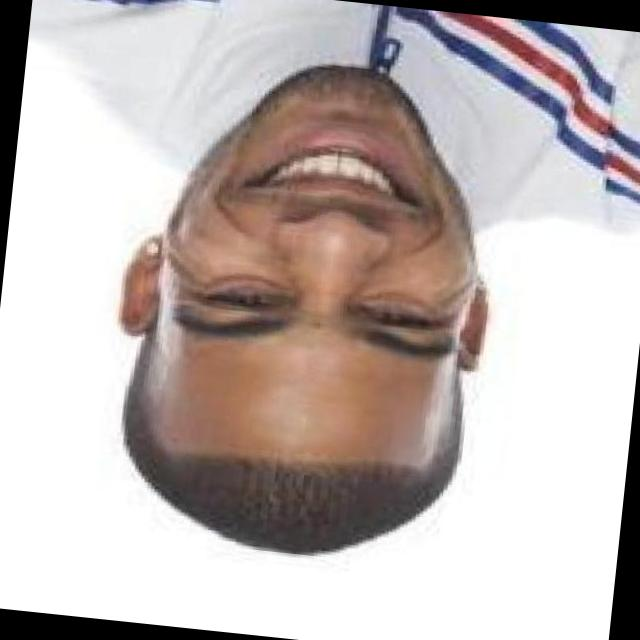bareface: (122, 56, 480, 565)
